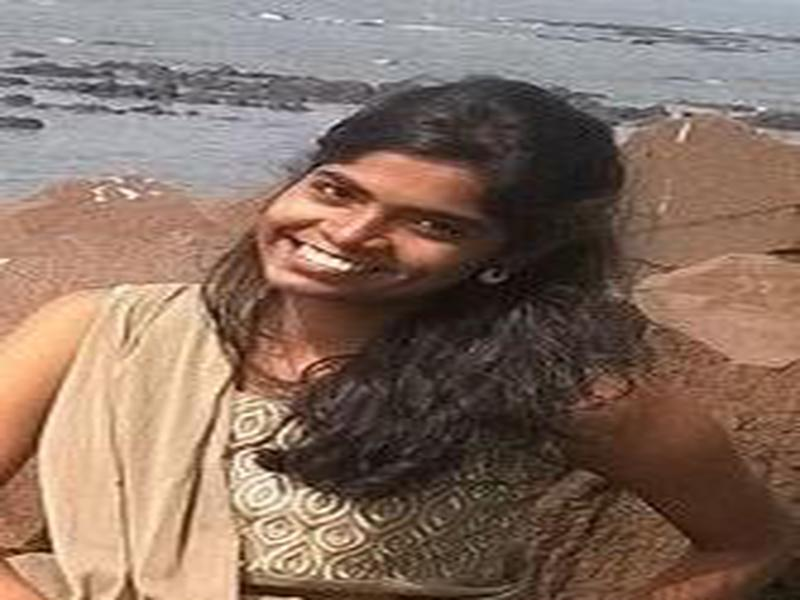without_mask: (249, 142, 512, 306)
